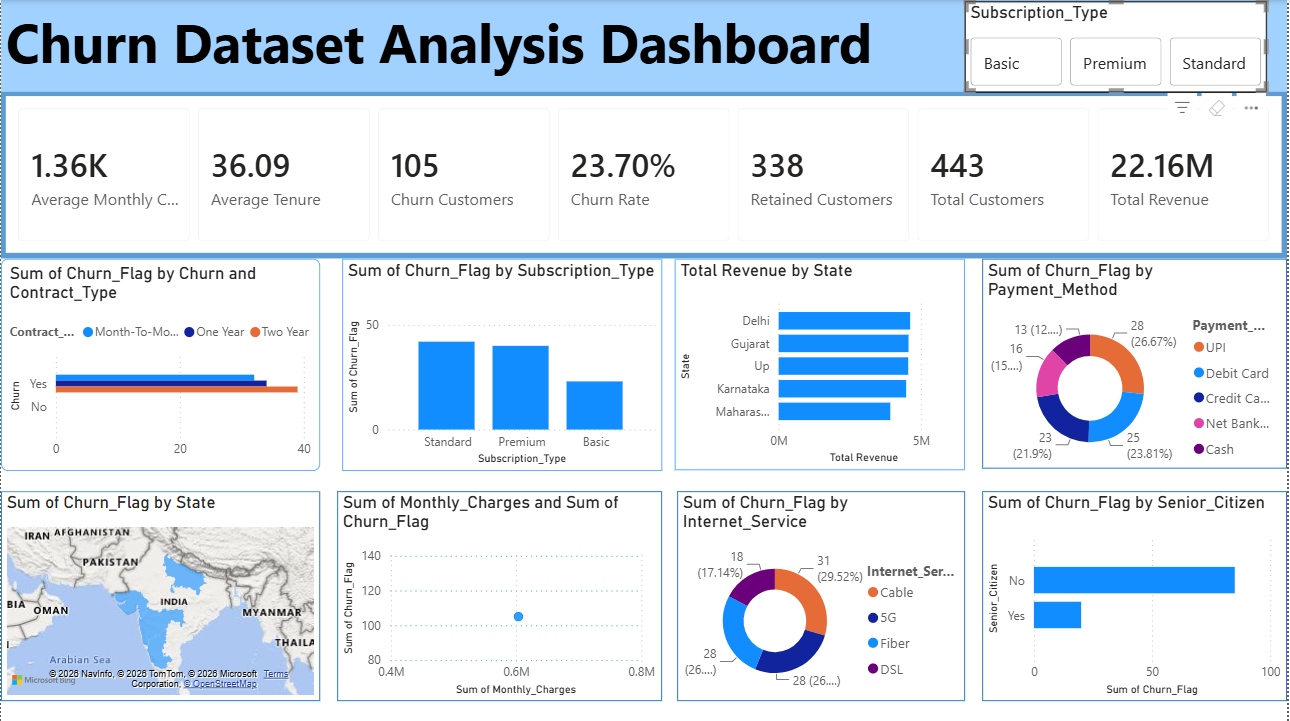

The page's visual inventory and layout, read from the dashboard file:
{"tool":"powerbi","page":{"name":"Page 1","canvas":[1280,720],"ordinal":0},"visuals":[{"type":"cardVisual","fields":{"Data":["Dax Measure.Average Monthly Charges","Dax Measure.Average Tenure","Dax Measure.Churn Customers","Dax Measure.Churn Rate","Dax Measure.Retained Customers","Dax Measure.Total Customers","Dax Measure.Total Revenue"]},"box":[0,91.2,1280,166.2],"z":0},{"type":"textbox","box":[0,0,1280,91.2],"z":1000},{"type":"clusteredBarChart","fields":{"Category":["Clean_Churn_Data.Churn"],"Series":["Clean_Churn_Data.Contract_Type"],"Y":["Sum(Clean_Churn_Data.Churn_Flag)"]},"box":[0,257.5,317.5,211.2],"z":2000},{"type":"columnChart","fields":{"Category":["Clean_Churn_Data.Subscription_Type"],"Y":["Sum(Clean_Churn_Data.Churn_Flag)"]},"box":[339.6,257.5,318,211],"z":3000},{"type":"filledMap","fields":{"Category":["Clean_Churn_Data.State"]},"box":[0,488.9,317.2,209],"z":4000},{"type":"scatterChart","fields":{"X":["Sum(Clean_Churn_Data.Monthly_Charges)"],"Y":["Sum(Clean_Churn_Data.Churn_Flag)"]},"box":[334.6,488.9,323,209],"z":5000},{"type":"barChart","fields":{"Y":["Dax Measure.Total Revenue"],"Category":["Clean_Churn_Data.State"]},"box":[670.5,257.5,288.6,210.2],"z":6000},{"type":"donutChart","fields":{"Category":["Clean_Churn_Data.Internet_Service"],"Y":["Sum(Clean_Churn_Data.Churn_Flag)"]},"box":[673,488.9,286.1,209],"z":7000},{"type":"donutChart","fields":{"Category":["Clean_Churn_Data.Payment_Method"],"Y":["Sum(Clean_Churn_Data.Churn_Flag)"]},"box":[976.5,257.5,303.5,209],"z":8000},{"type":"barChart","fields":{"Category":["Clean_Churn_Data.Senior_Citizen"],"Y":["Sum(Clean_Churn_Data.Churn_Flag)"]},"box":[977,489,303,209],"z":9000},{"type":"advancedSlicerVisual","fields":{"Values":["Clean_Churn_Data.Subscription_Type"]},"box":[959.1,1.2,301,90.8],"z":10000}]}

Visuals, with their boxes in screenshot pixels (x1, y1, x2, y2), scaled from the page's 1280x720 canvas onto the 1290x721 screenshot:
cardVisual - Dax Measure.Average Monthly Charges x Dax Measure.Average Tenure: left=0, top=91, right=1289, bottom=258
textbox: left=0, top=0, right=1289, bottom=91
clusteredBarChart - Clean_Churn_Data.Churn x Clean_Churn_Data.Contract_Type: left=0, top=258, right=320, bottom=469
columnChart - Clean_Churn_Data.Subscription_Type x Sum(Clean_Churn_Data.Churn_Flag): left=342, top=258, right=663, bottom=469
filledMap - Clean_Churn_Data.State: left=0, top=490, right=320, bottom=699
scatterChart - Sum(Clean_Churn_Data.Monthly_Charges) x Sum(Clean_Churn_Data.Churn_Flag): left=337, top=490, right=663, bottom=699
barChart - Dax Measure.Total Revenue x Clean_Churn_Data.State: left=676, top=258, right=967, bottom=468
donutChart - Clean_Churn_Data.Internet_Service x Sum(Clean_Churn_Data.Churn_Flag): left=678, top=490, right=967, bottom=699
donutChart - Clean_Churn_Data.Payment_Method x Sum(Clean_Churn_Data.Churn_Flag): left=984, top=258, right=1289, bottom=467
barChart - Clean_Churn_Data.Senior_Citizen x Sum(Clean_Churn_Data.Churn_Flag): left=985, top=490, right=1289, bottom=699
advancedSlicerVisual - Clean_Churn_Data.Subscription_Type: left=967, top=1, right=1270, bottom=92
